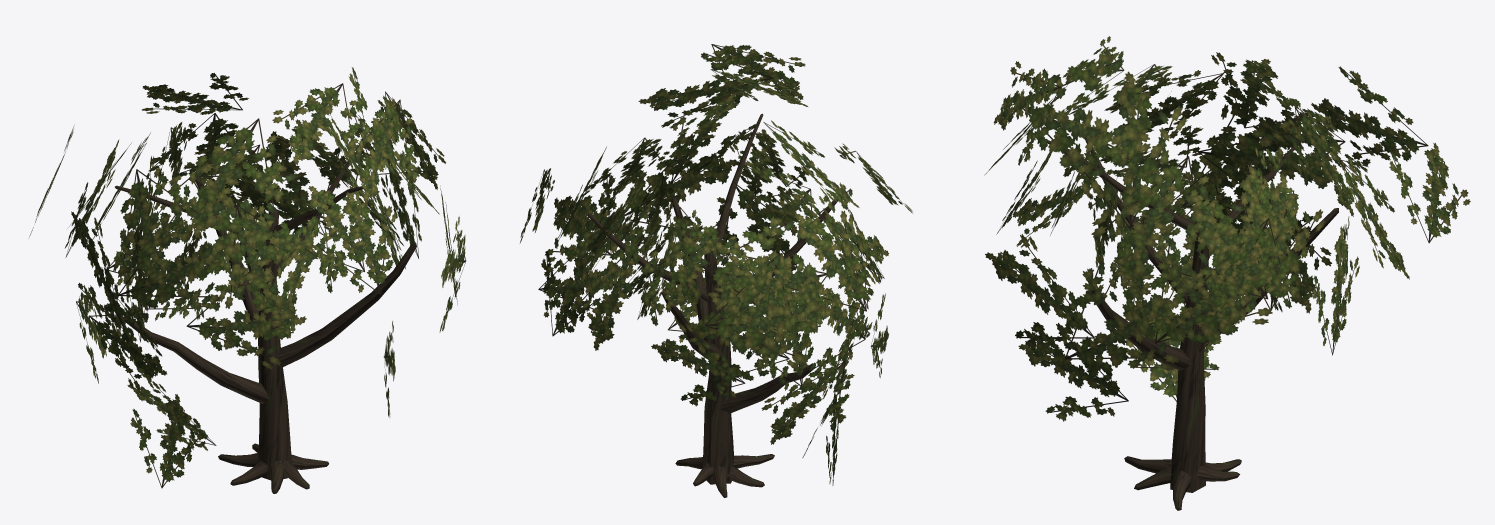
The model's file is DarkOak_1_LOD2.gltf.
3 views of the same model, side by side, from view 1: azimuth 30°, elevation 25°; view 2: azimuth 150°, elevation 25°; view 3: azimuth 270°, elevation 25° (orthographic). The views are drawn at different scales.
Visible parts, largest first — view 1: DarkOak_1_LOD2; view 2: DarkOak_1_LOD2; view 3: DarkOak_1_LOD2.
Part boxes in pixels (x1,y1,x2,y2): DarkOak_1_LOD2: (29, 67, 466, 493); DarkOak_1_LOD2: (520, 44, 913, 497); DarkOak_1_LOD2: (984, 36, 1470, 510).
Size of the model in its own units: 16.38 by 17.88 by 17.55.
Materials: 2 (2 with a texture image).
